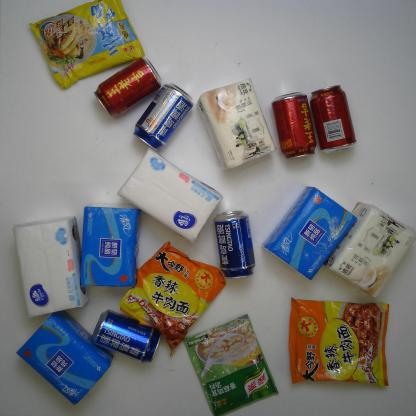Alcohol: (124, 84, 201, 152), (88, 305, 164, 366), (211, 204, 260, 282)
Drink: (92, 43, 164, 118), (274, 82, 319, 164), (313, 77, 358, 157)
Instant Noodles: (118, 238, 229, 358), (277, 292, 401, 398), (14, 2, 148, 92)
Seasoner: (177, 310, 296, 412)
Tissue: (251, 178, 360, 286), (311, 192, 413, 300), (6, 310, 116, 409), (110, 146, 223, 242), (4, 212, 94, 316), (194, 72, 279, 171), (77, 198, 136, 292)
